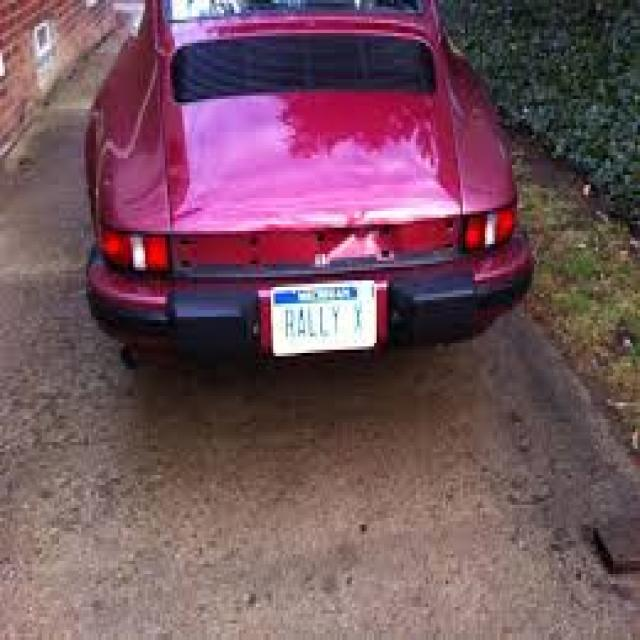minor: (318, 96, 403, 282)
